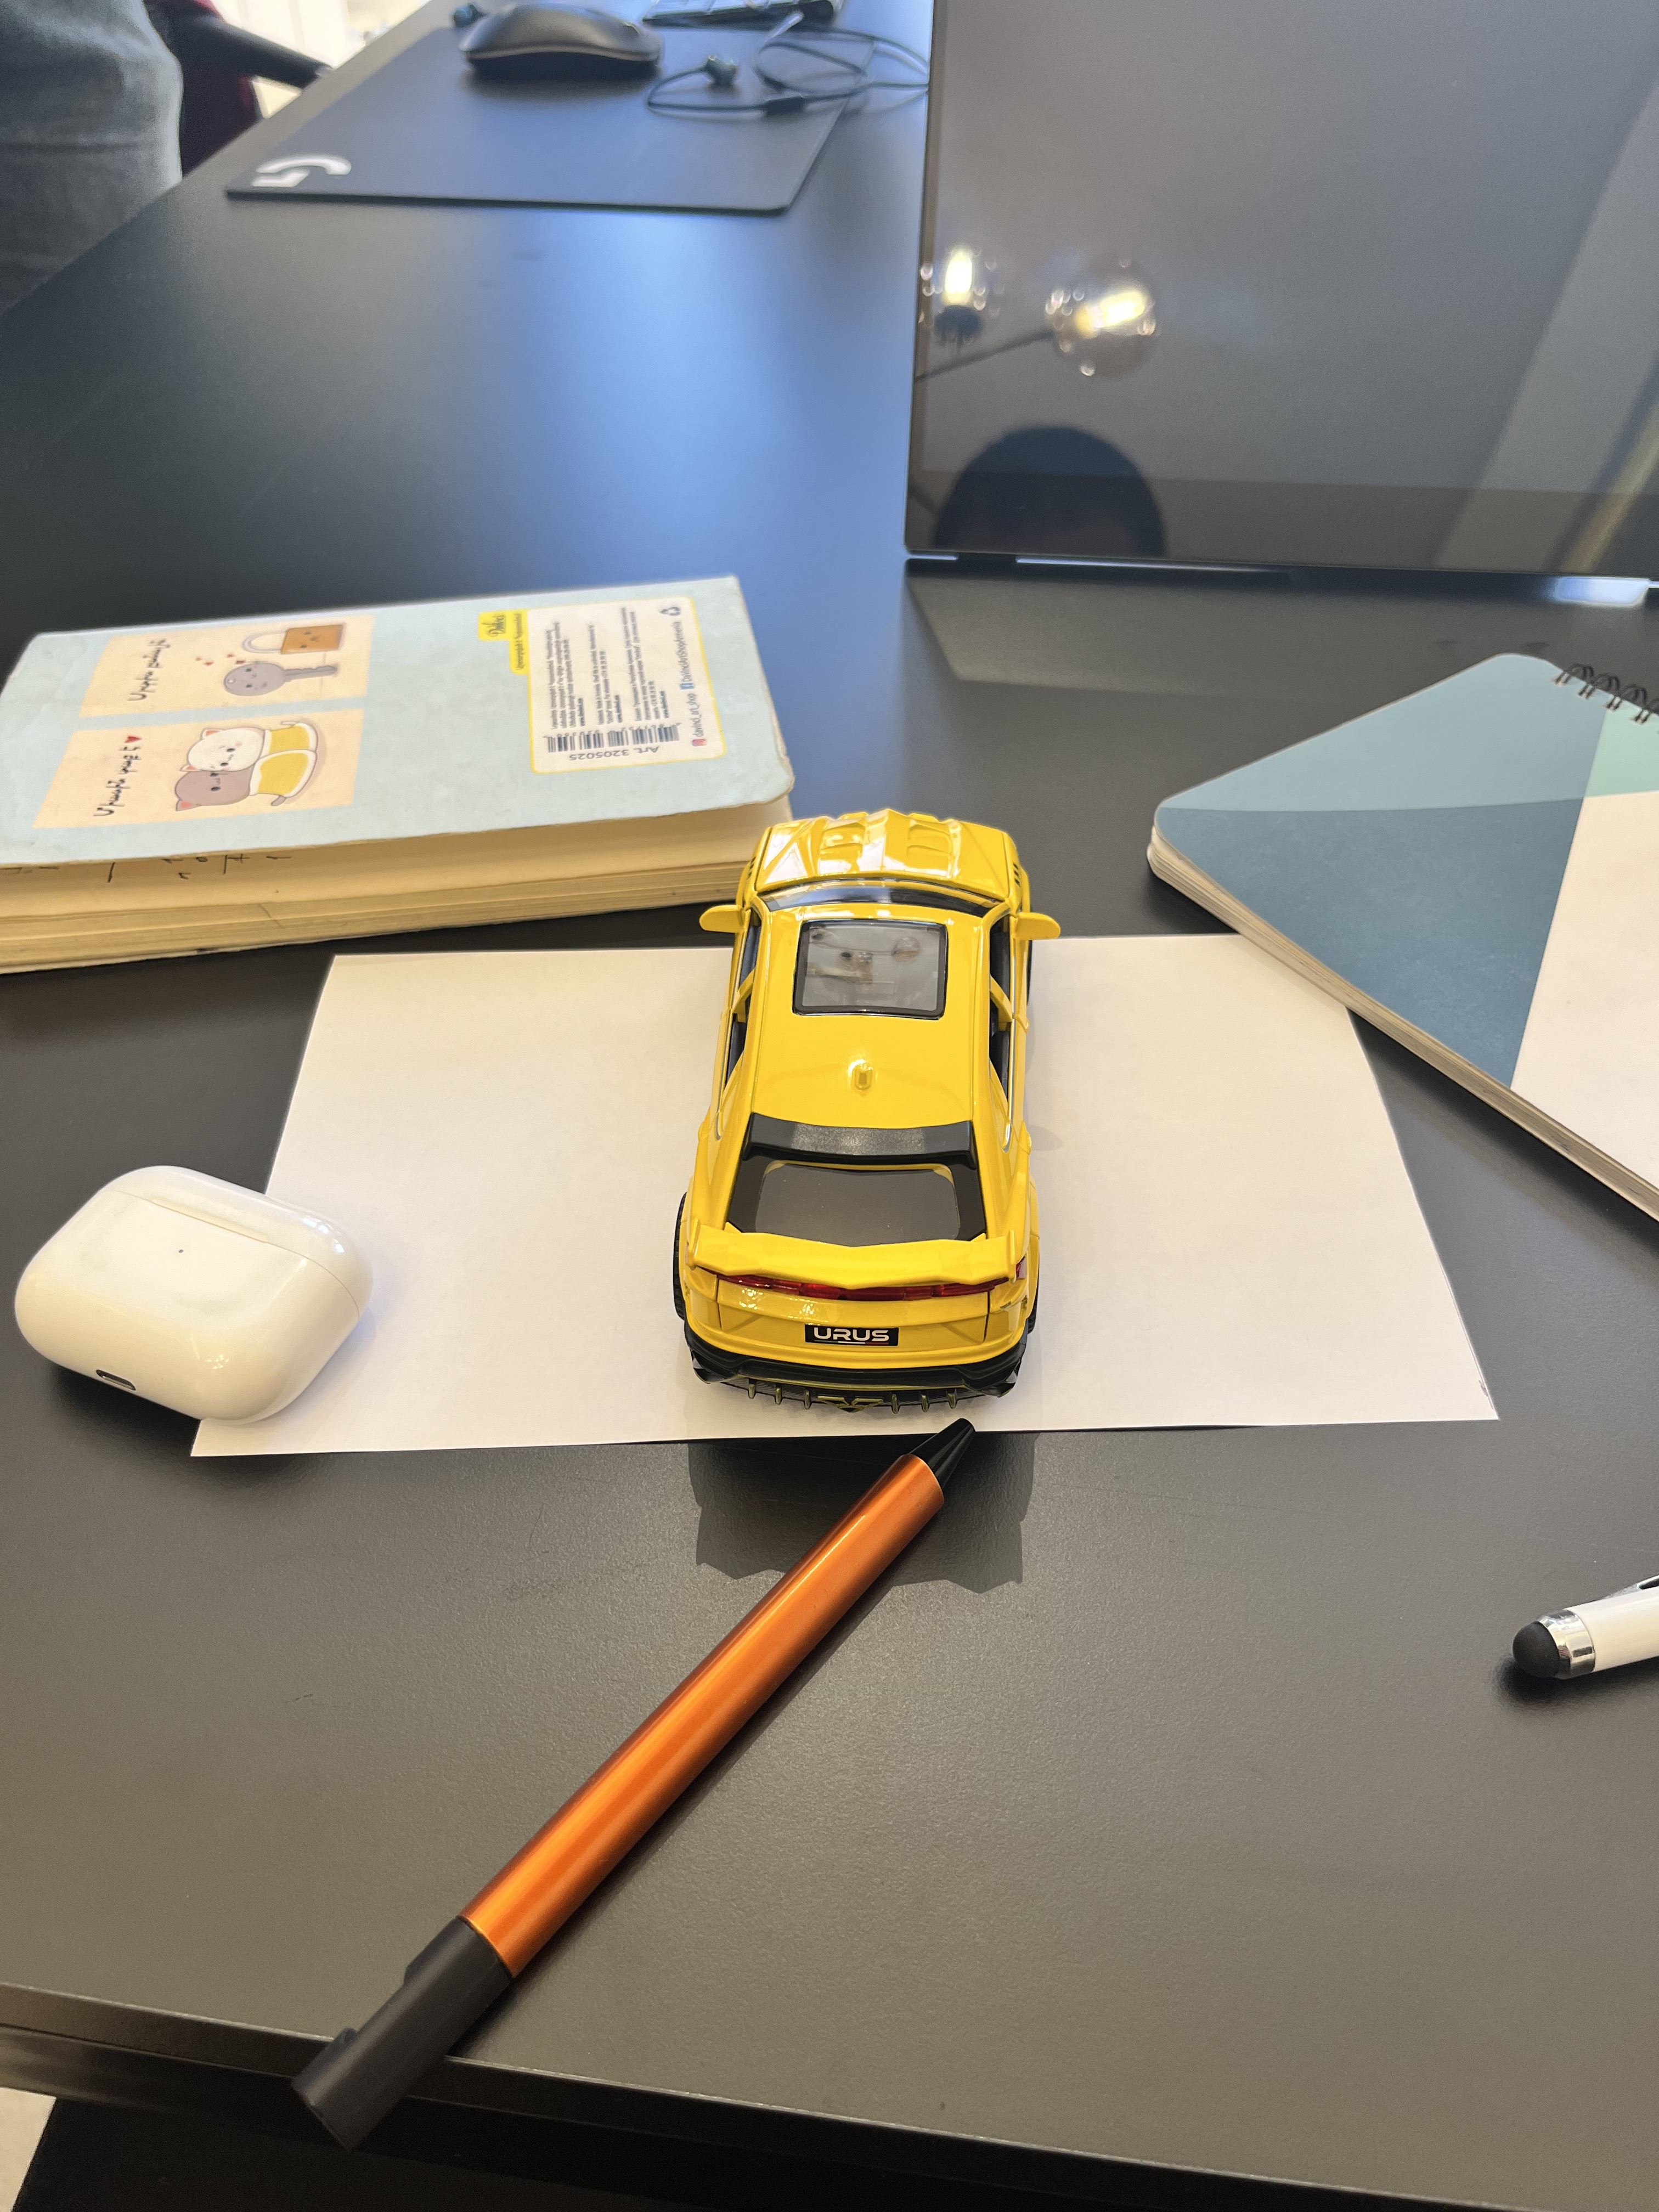lambo: (667, 806, 1061, 1406)
